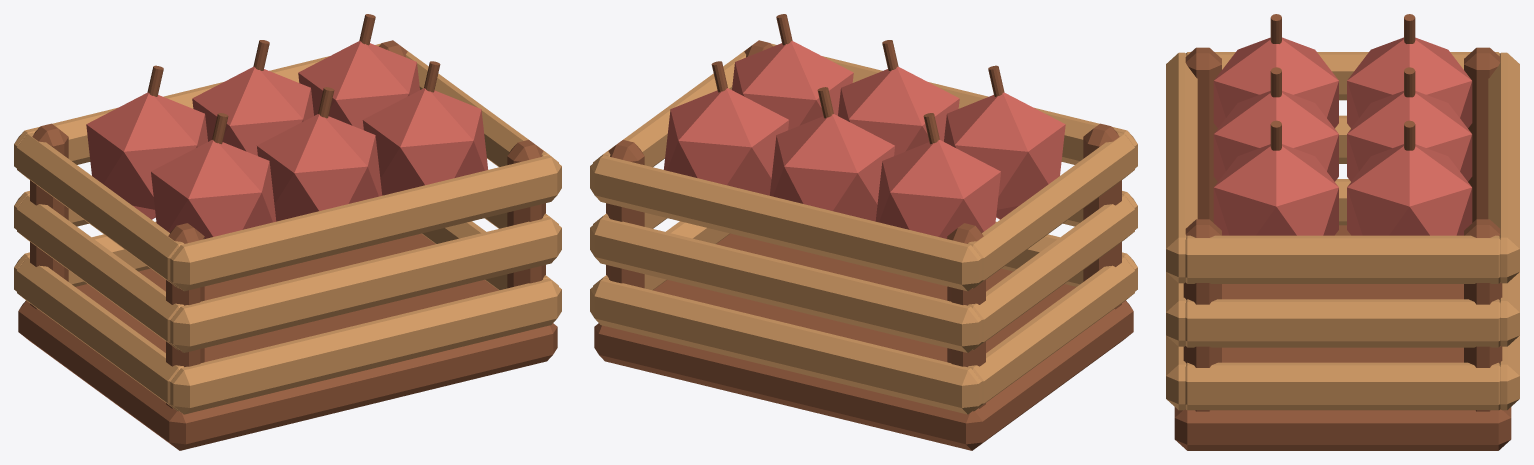
File: market_11_Apple_Crate.glb
3 views of the same model, side by side, from view 1: azimuth 30°, elevation 25°; view 2: azimuth 150°, elevation 25°; view 3: azimuth 270°, elevation 25° (orthographic). The views are drawn at different scales.
Visible parts, largest first — view 1: 11_Apple_Crate; view 2: 11_Apple_Crate; view 3: 11_Apple_Crate.
Part boxes in pixels (left/top/right/bottom): 11_Apple_Crate: left=14, top=14, right=561, bottom=450; 11_Apple_Crate: left=590, top=14, right=1137, bottom=450; 11_Apple_Crate: left=1166, top=14, right=1519, bottom=450.
Bounding box in the file's own units: 0.665 × 0.4619 × 0.505.
